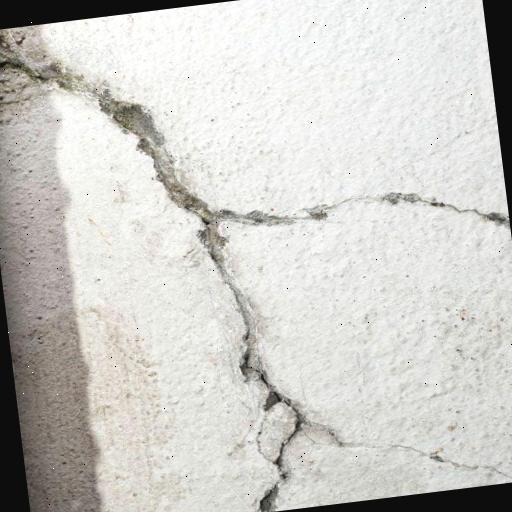spalling: (38, 51, 511, 512)
